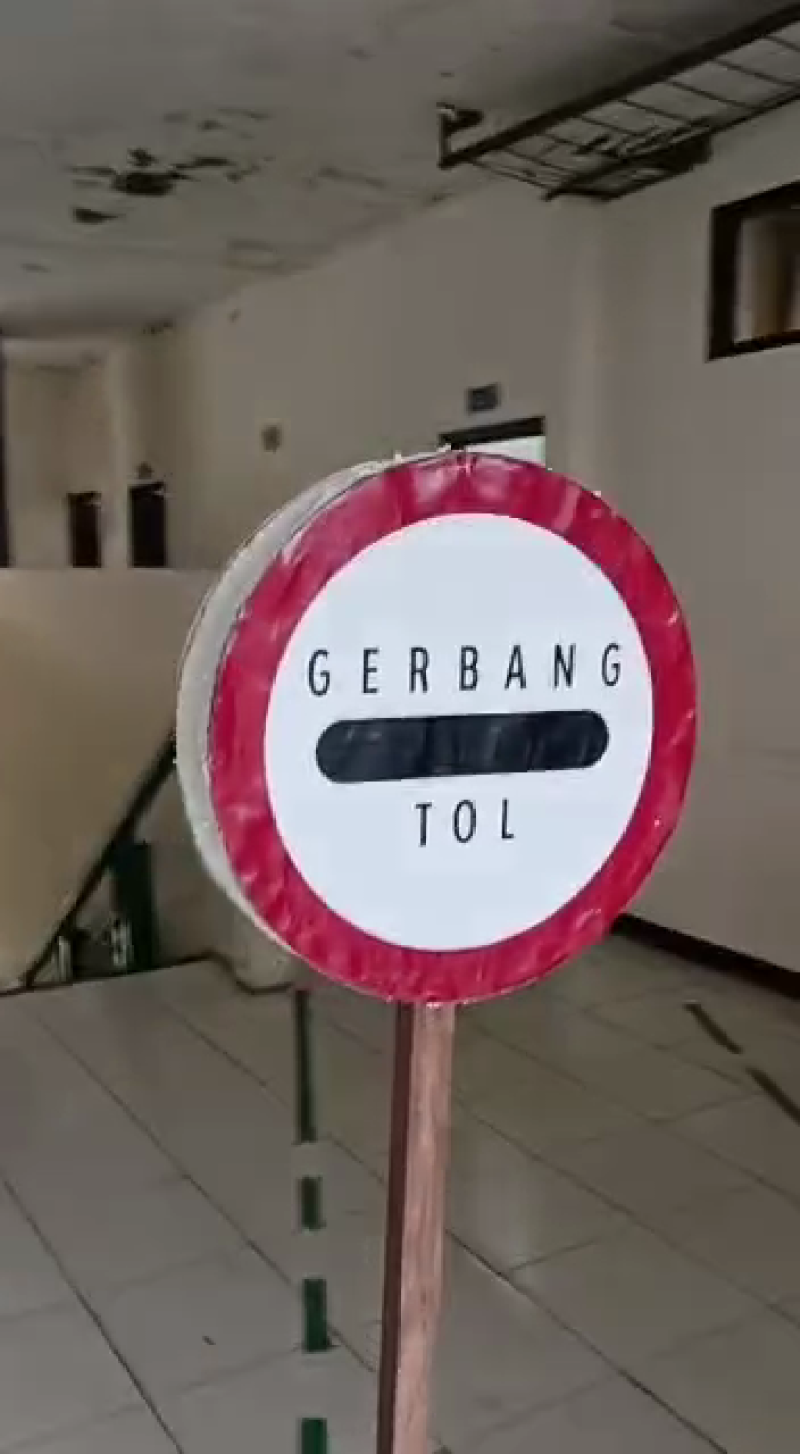gerbang tol: (213, 440, 696, 1020)
